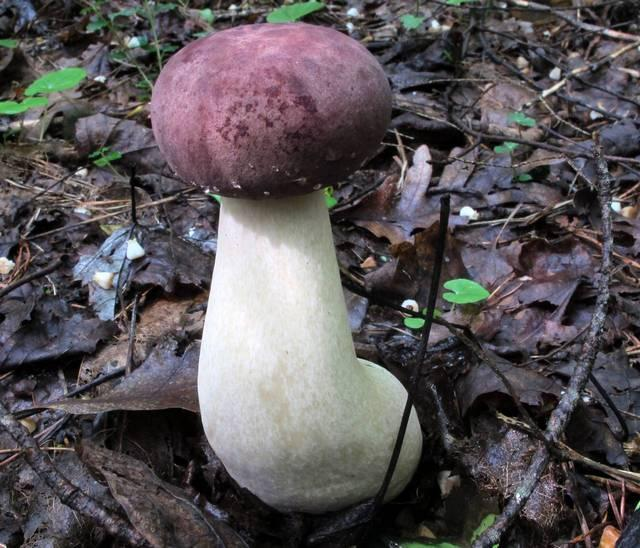poisonous_mushroom: (147, 20, 424, 515)
